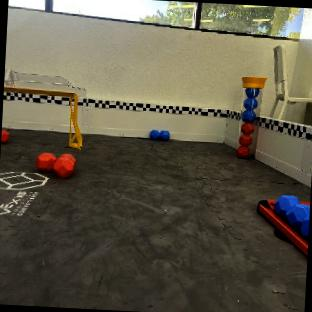Goal: (3, 68, 84, 148)
Parking-R: (258, 199, 307, 254)
V5_BLUE: (272, 195, 309, 236), (242, 86, 257, 120), (149, 130, 169, 140), (242, 109, 254, 120)
V5_RED: (36, 152, 75, 178), (238, 122, 252, 157), (1, 129, 9, 142)
